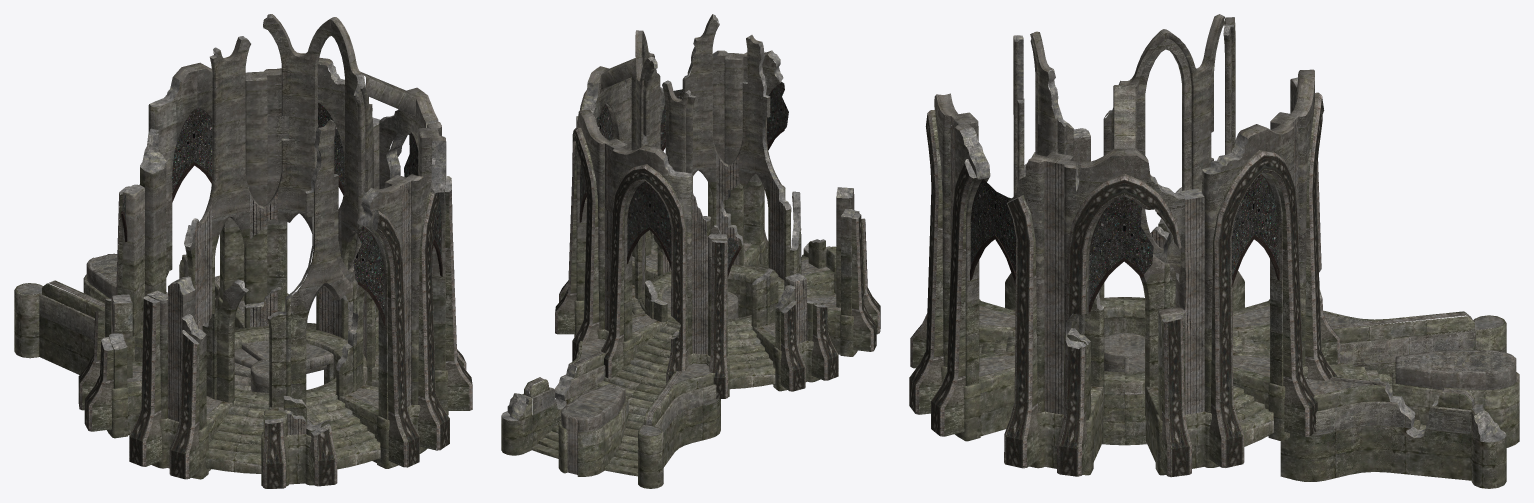
File: eso_gu14_StoneRuins5-transformed.glb
3 renders of one model, left to right at view 1: azimuth 30°, elevation 25°; view 2: azimuth 150°, elevation 25°; view 3: azimuth 270°, elevation 25°, orthographic. The views are drawn at different scales.
Parts seen in each view (by area): view 1: default; view 2: default; view 3: default.
Part boxes in pixels (<box>): default: <box>14,14,472,488</box>; default: <box>501,14,880,488</box>; default: <box>909,14,1519,488</box>.
Size of the model in its own units: 37.54 by 43.04 by 53.2.
6 materials, 6 textured.
